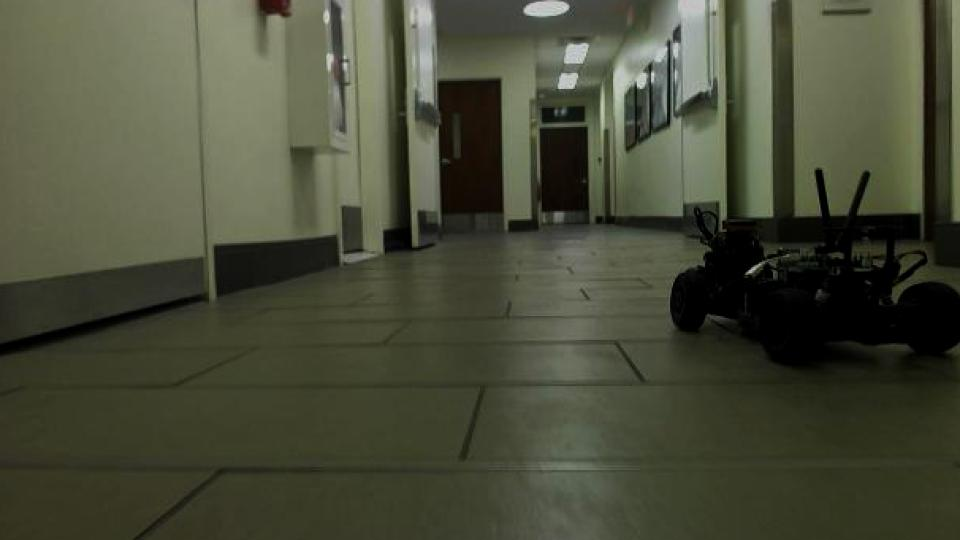car: (665, 165, 960, 367)
